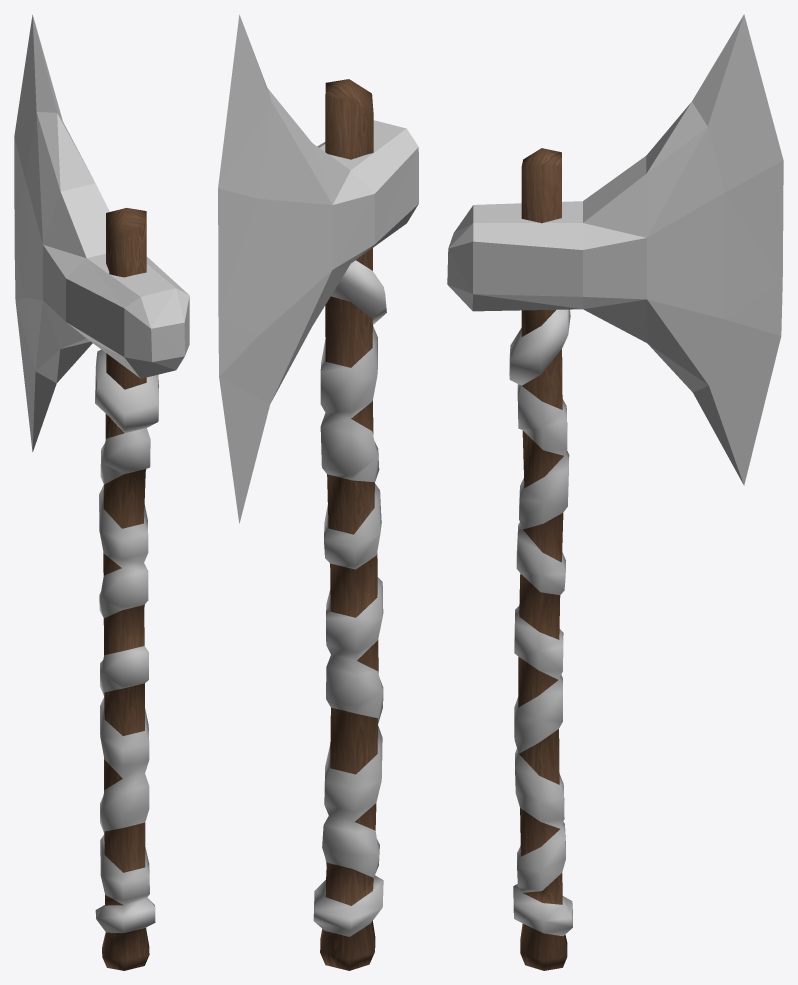
The model's file is Wep_Axe_01.fbx.
3 renders of one model, left to right at view 1: azimuth 30°, elevation 25°; view 2: azimuth 150°, elevation 25°; view 3: azimuth 270°, elevation 25°, orthographic. The views are drawn at different scales.
Visible parts, largest first — view 1: SM_Wep_Axe_01; view 2: SM_Wep_Axe_01; view 3: SM_Wep_Axe_01.
Boxes of the visible parts, bbox=[...] form: SM_Wep_Axe_01: bbox=[14, 15, 189, 970]; SM_Wep_Axe_01: bbox=[218, 14, 418, 970]; SM_Wep_Axe_01: bbox=[447, 14, 783, 970].
Bounding box in the file's own units: 843 × 8582 × 2758.
